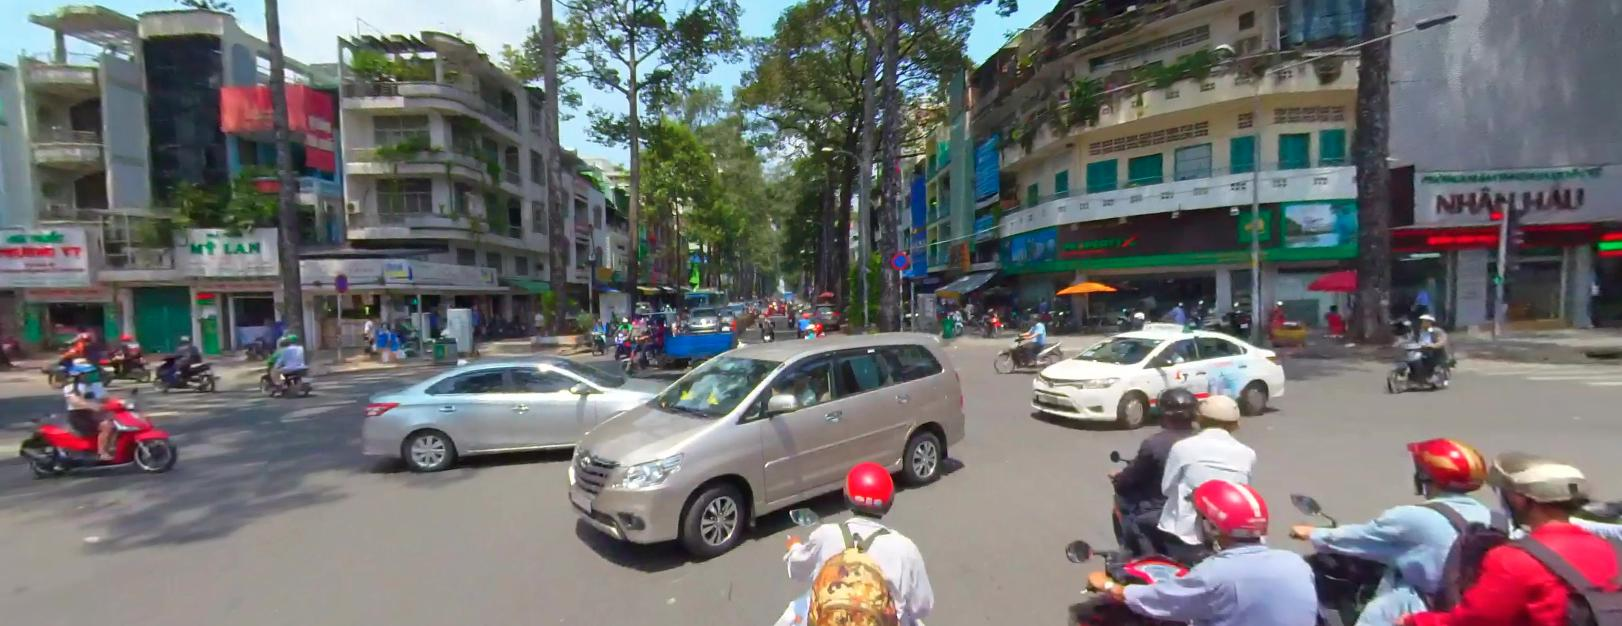Cam dung va do: (890, 252, 910, 269)
